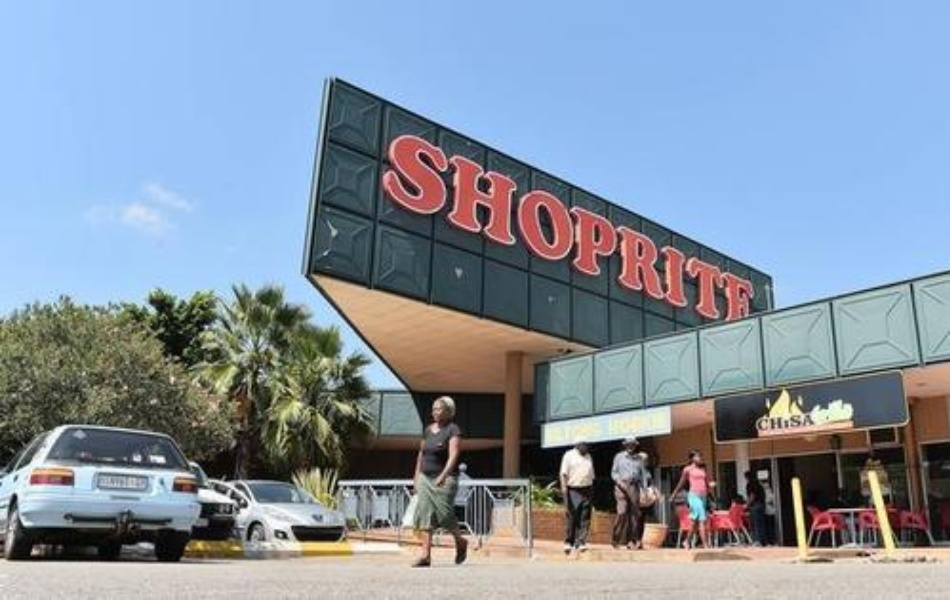text: (401, 126, 416, 330), (417, 126, 432, 330), (433, 126, 448, 330), (449, 126, 464, 330), (465, 126, 480, 330), (481, 126, 496, 330), (497, 126, 512, 330), (513, 126, 528, 330), (529, 126, 544, 330), (545, 126, 560, 330), (561, 126, 576, 330), (577, 126, 592, 330), (593, 126, 608, 330), (609, 126, 624, 330), (625, 126, 640, 330), (641, 126, 656, 330), (657, 126, 672, 330), (673, 126, 688, 330), (689, 126, 704, 330), (705, 126, 720, 330), (721, 126, 736, 330), (737, 126, 752, 330), (396, 126, 400, 330), (753, 126, 756, 330), (545, 420, 560, 442), (561, 420, 576, 442), (577, 420, 592, 442), (609, 412, 624, 433), (625, 412, 640, 433), (641, 412, 656, 433), (769, 414, 784, 431), (785, 414, 800, 431), (801, 414, 813, 431), (758, 414, 768, 431), (604, 412, 608, 433), (657, 412, 661, 433), (593, 420, 596, 442), (543, 420, 544, 442)
